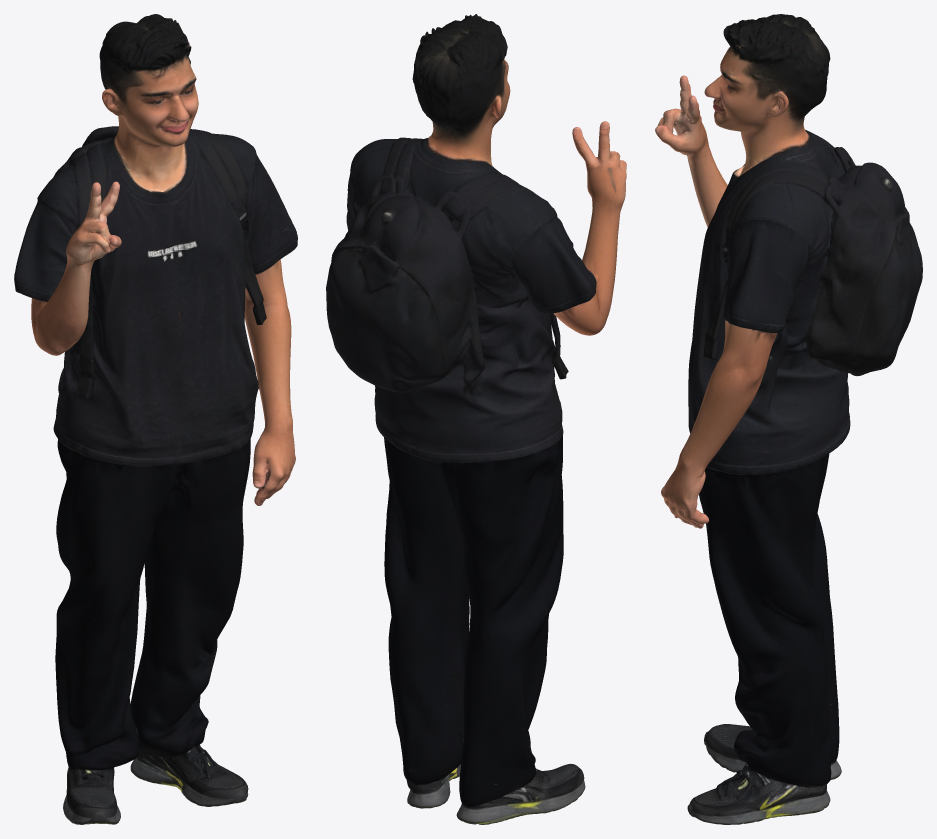
Rendered from rihan.glb.
The picture shows the model from 3 angles, left to right: view 1: azimuth 30°, elevation 25°; view 2: azimuth 150°, elevation 25°; view 3: azimuth 270°, elevation 25°; orthographic projection.
Visible parts, largest first — view 1: mesh_node; view 2: mesh_node; view 3: mesh_node.
Boxes of the visible parts, bbox=[...] form: mesh_node: bbox=[14, 14, 297, 824]; mesh_node: bbox=[326, 14, 626, 824]; mesh_node: bbox=[655, 14, 922, 824].
Bounding box in the file's own units: 0.6777 × 1.9 × 0.5936.
Materials: 1 (1 with a texture image).
